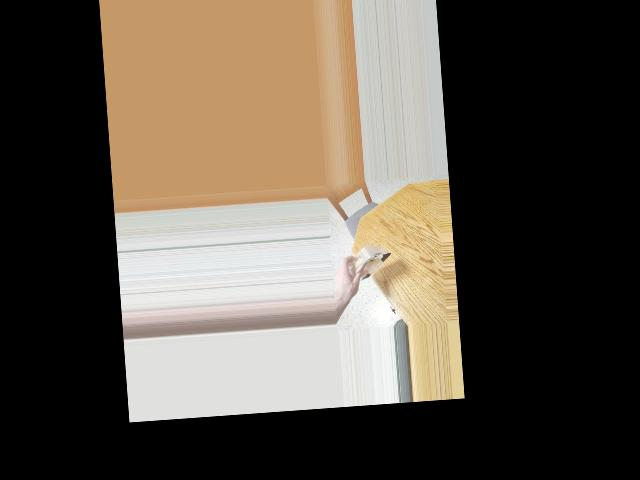cheese: (344, 234, 388, 287)
